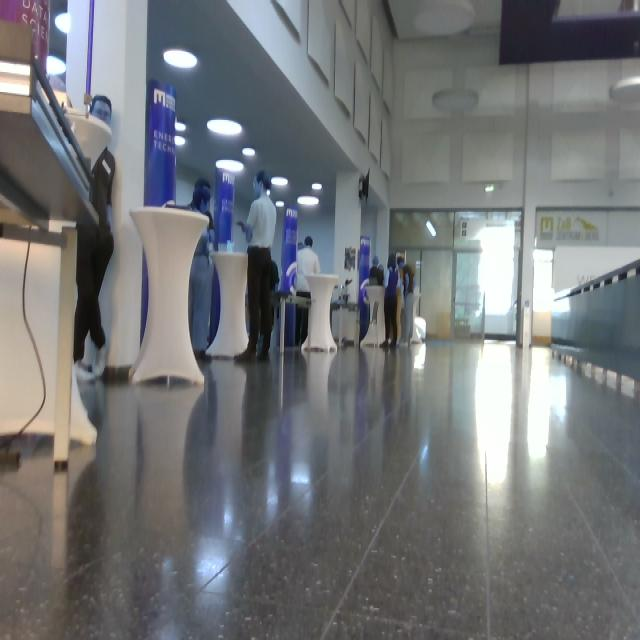door: (390, 208, 523, 342), (453, 210, 522, 341)
light bulb: (432, 89, 479, 112), (609, 76, 640, 104), (163, 49, 198, 69), (207, 118, 243, 136), (46, 54, 67, 76), (55, 12, 72, 34), (216, 160, 244, 173), (297, 196, 319, 206), (426, 221, 437, 237), (271, 177, 288, 186), (175, 121, 187, 132), (242, 148, 256, 157), (175, 136, 186, 146), (312, 183, 323, 191), (276, 201, 285, 208)
person: (72, 94, 116, 381), (234, 170, 278, 364), (295, 236, 321, 346), (380, 253, 400, 348), (397, 257, 416, 346)
tiled floor: (1, 337, 639, 638)
